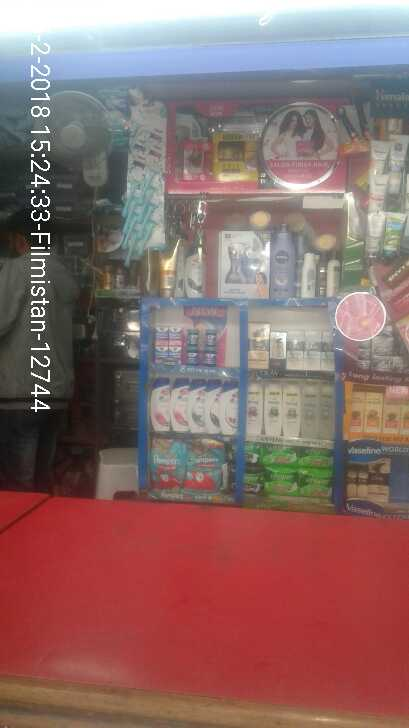vicks: (148, 322, 223, 370)
